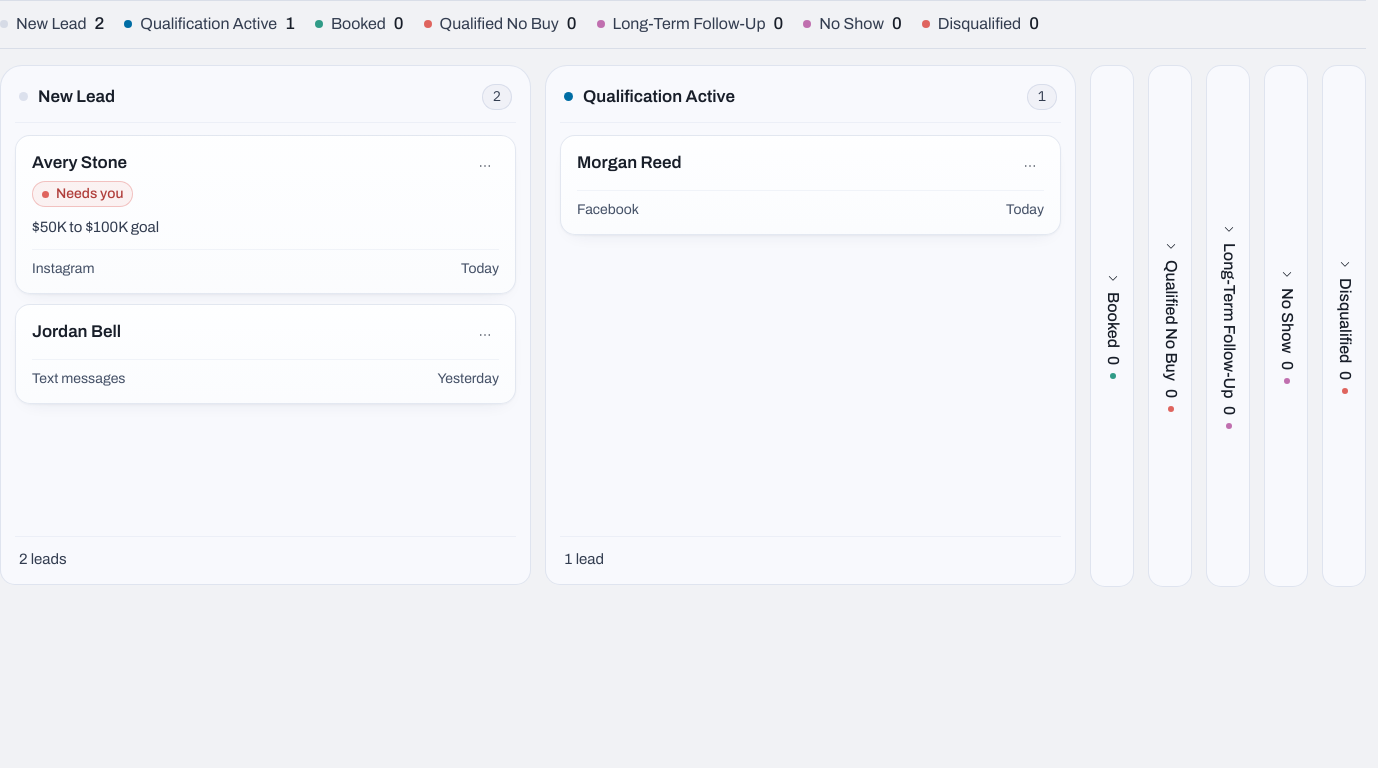
Test: KanbanBoard › collapses an empty column into an expandable strip
Click the button with aria-label "Expand Booked" at [1113, 326], box [1091,66,1135,586]
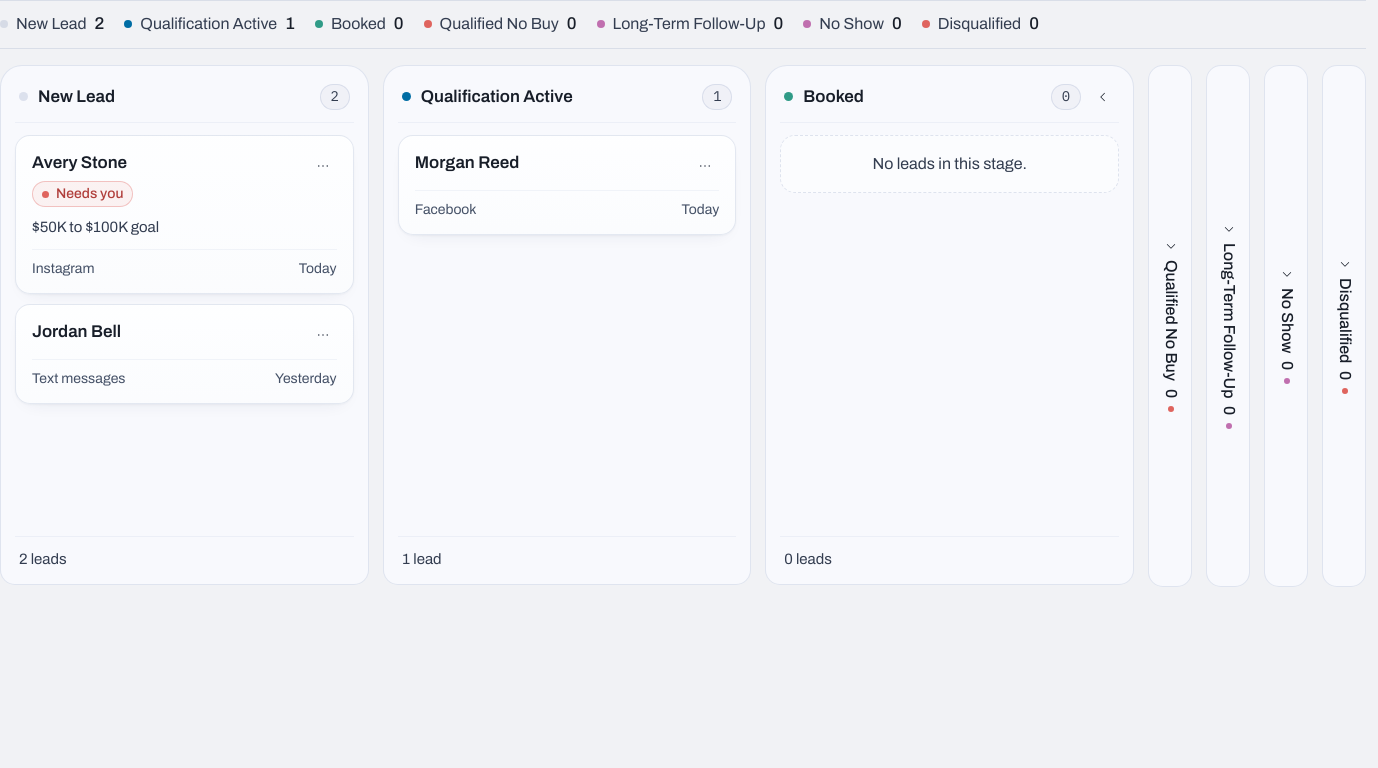
Check: the text "No leads in this stage." is shown, box [780,135,1119,193]
